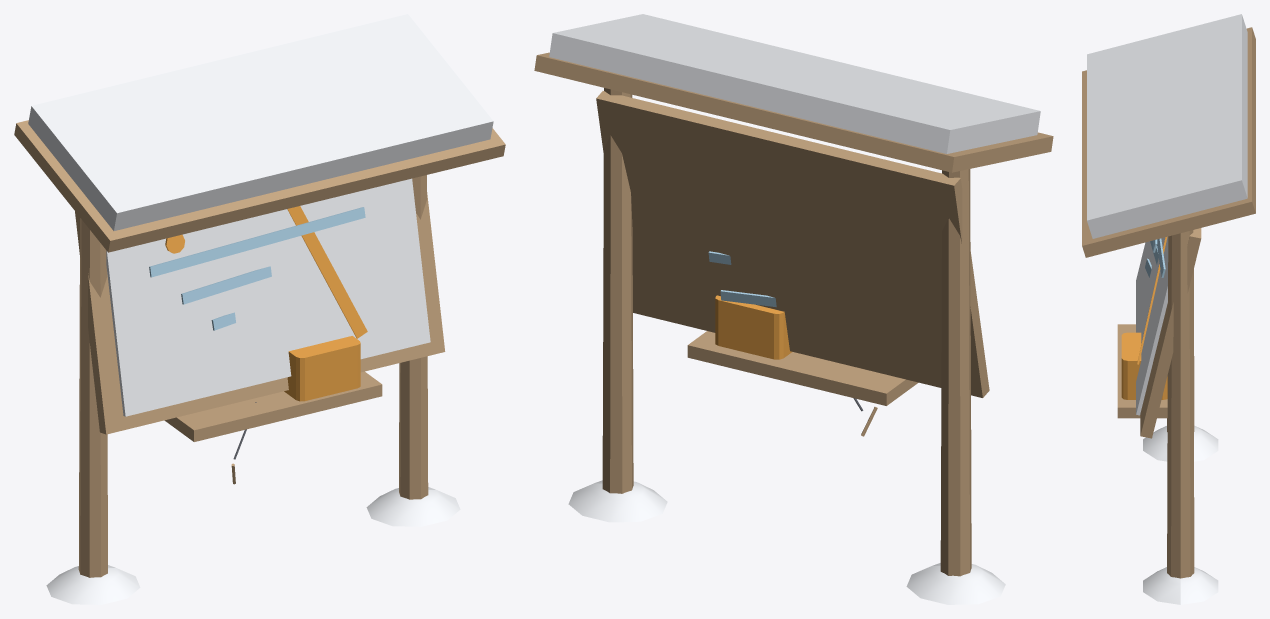
The model's file is backcountry-snowboarding-and-avalanche-safety-trailhea-3090a18e__18961.glb.
3 renders of one model, left to right at view 1: azimuth 30°, elevation 25°; view 2: azimuth 150°, elevation 25°; view 3: azimuth 270°, elevation 25°, orthographic. The views are drawn at different scales.
Parts seen in each view (by area): view 1: trailhead-map-board; view 2: trailhead-map-board; view 3: trailhead-map-board.
Part boxes in pixels (x1,y1,x2,y2): trailhead-map-board: [14, 14, 505, 604]; trailhead-map-board: [534, 14, 1053, 604]; trailhead-map-board: [1082, 14, 1255, 604].
Bounding box in the file's own units: 2.15 × 2.35 × 0.8843.
